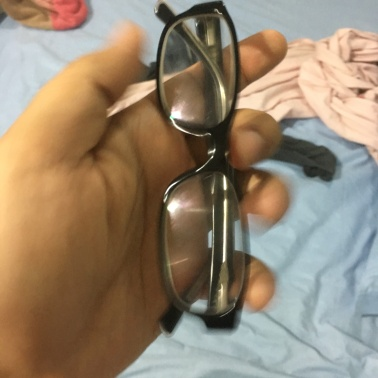glasses: (138, 7, 259, 333)
